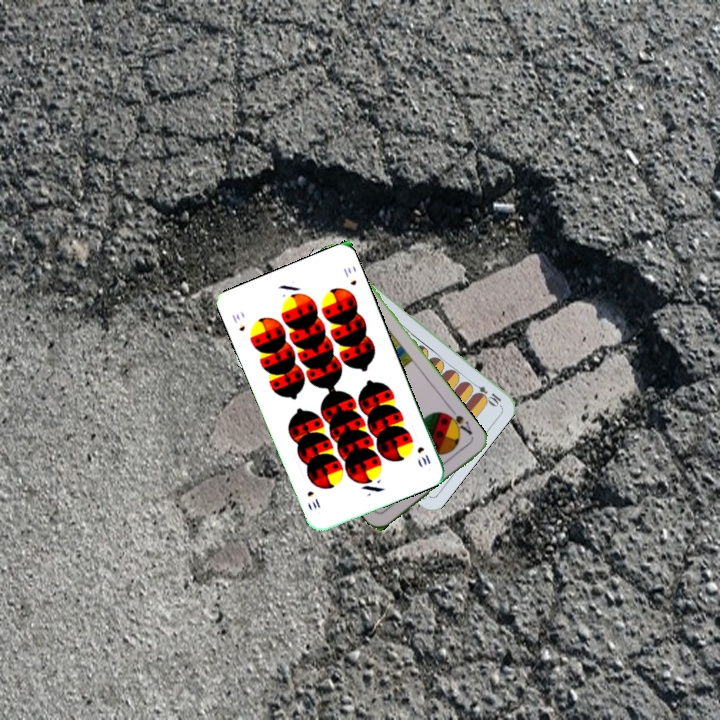E10: (467, 378, 504, 408)
S10: (413, 442, 433, 468), (228, 309, 248, 334)
SA: (443, 406, 475, 437)
